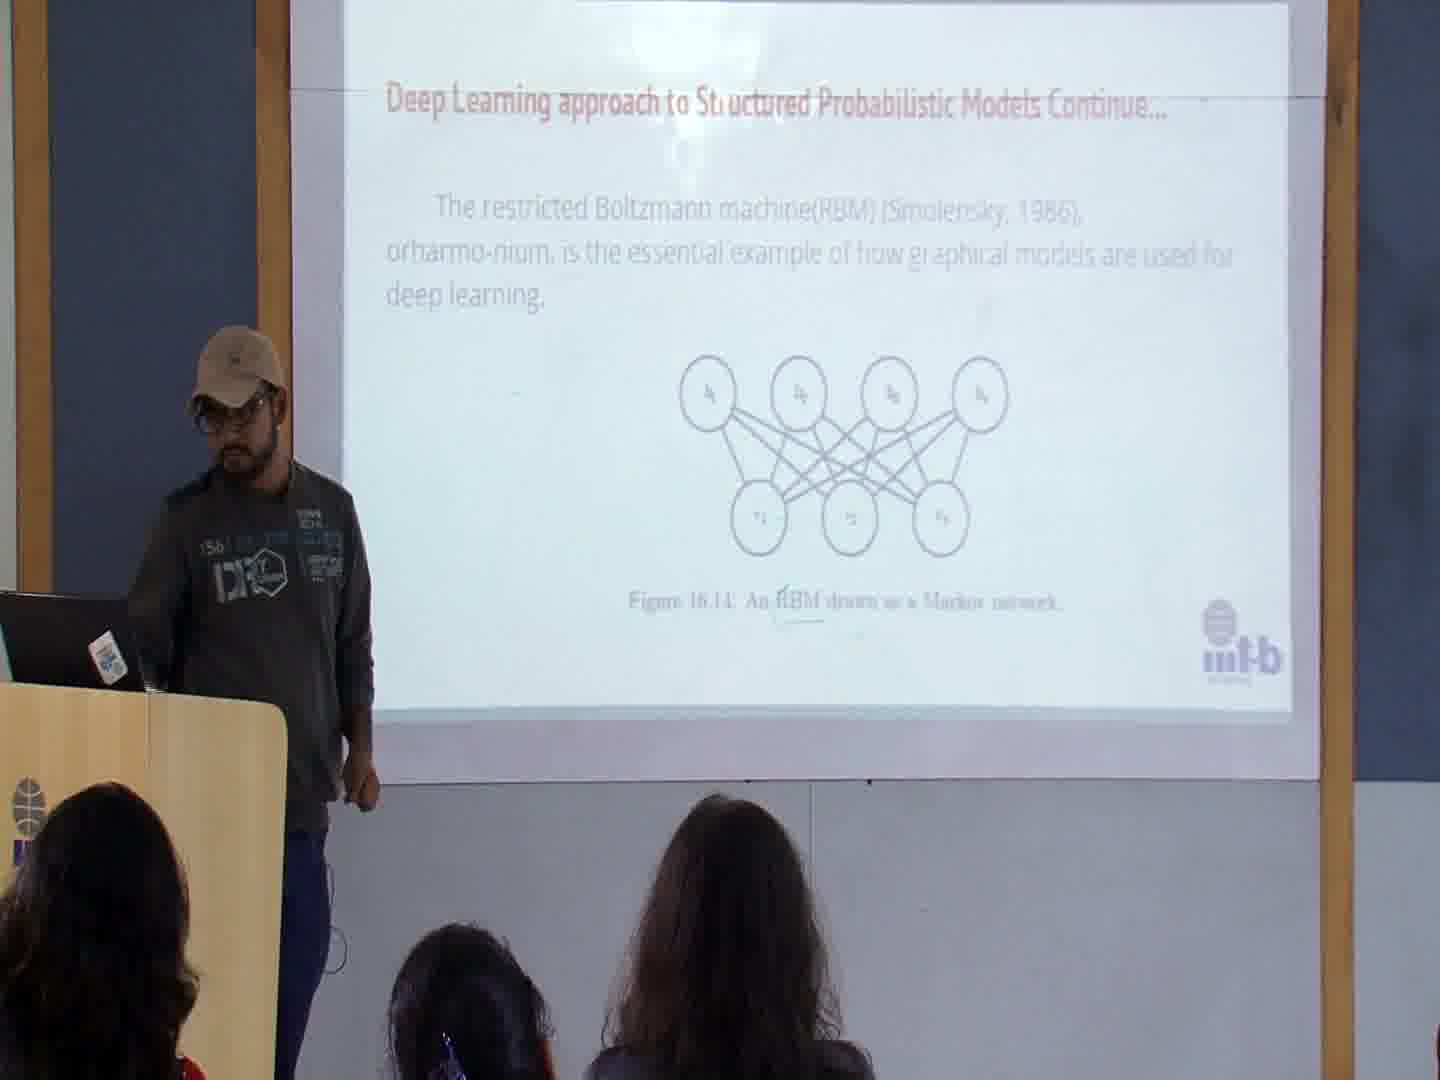slide: (341, 1, 1296, 725)
